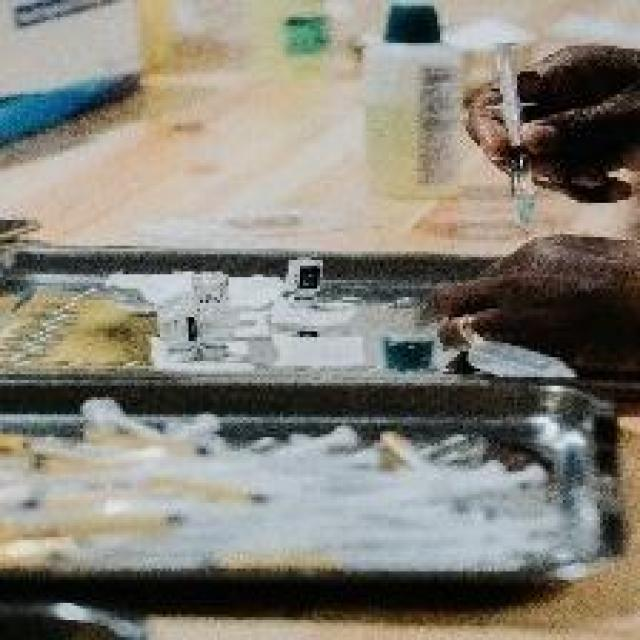syringe: (45, 396, 582, 577), (482, 36, 556, 245)
